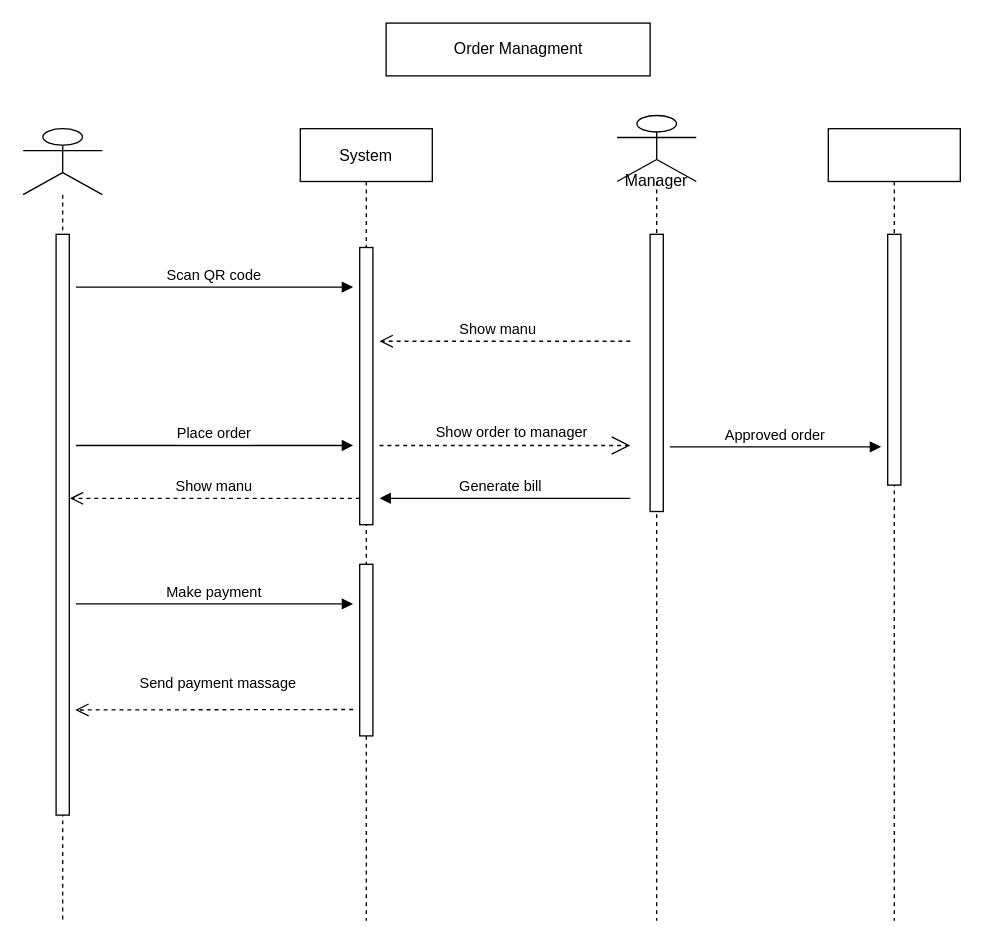
Some shapes in this 983 by 944 pixel diagram are drawn without their labels. Each missing label, with the box of its shape:
Customer: (22, 127, 102, 921)
Database: (827, 127, 960, 921)
